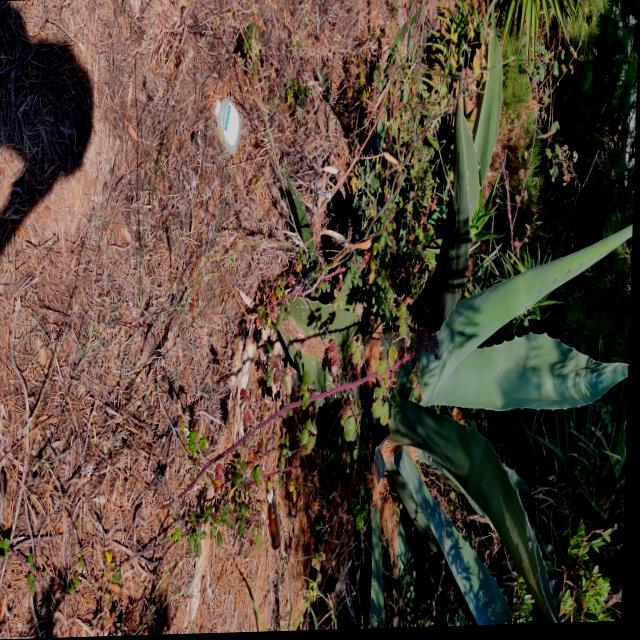Bottle-Glass: (266, 481, 288, 556)
Plastic: (209, 92, 247, 167)
